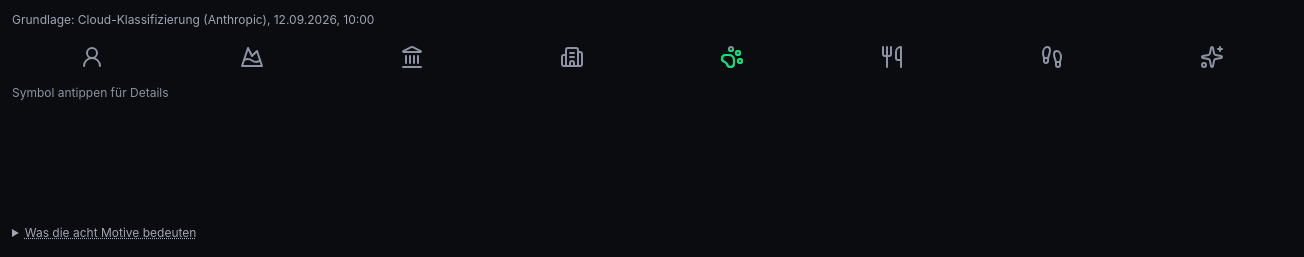
Test case: MotifStrengthSection: die Detailzeile › switches the row to the other motif on a click on another symbol
Click the button named "Menschen: 0%".
click(92, 57)  # box [12,41,172,73]
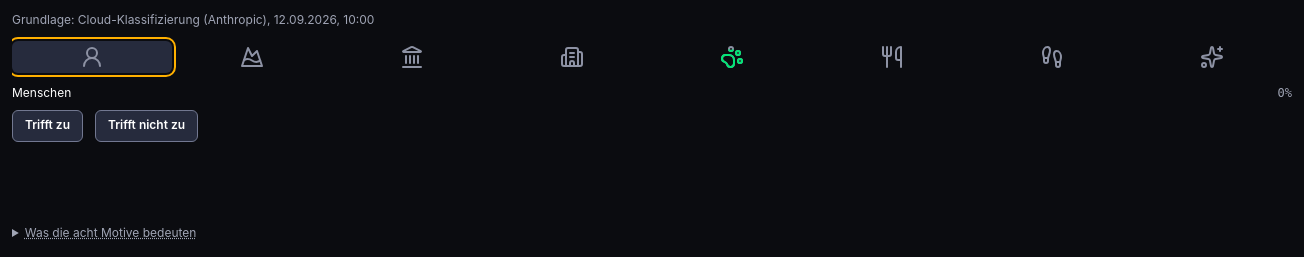
Click the button named "Tiere: 80%".
click(732, 57)  # box [652,41,812,73]
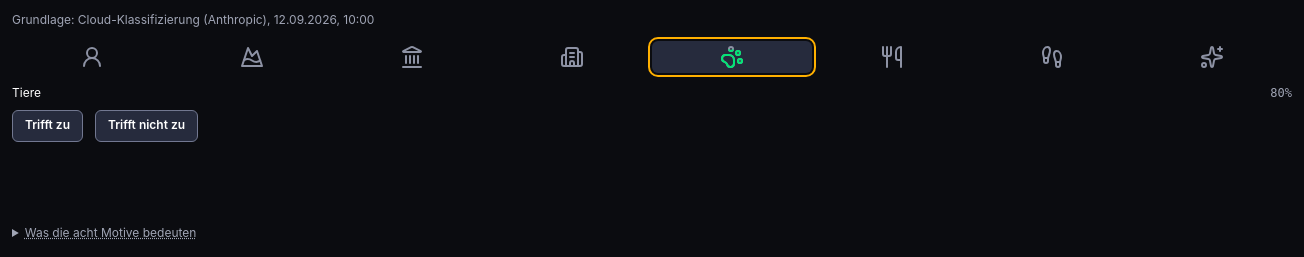
Expected: the text "Tiere" is shown, [12,85,41,102]
